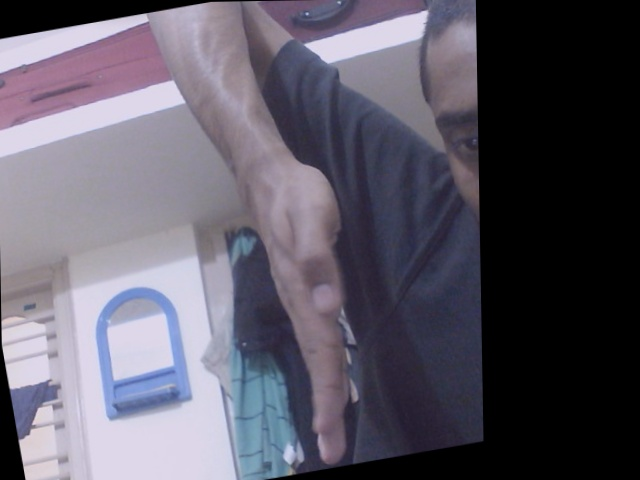hand: (233, 159, 352, 468)
